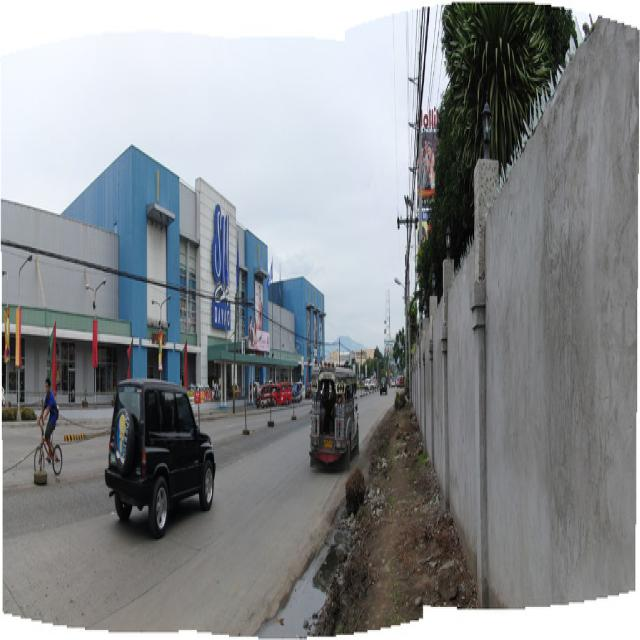car: (105, 377, 214, 526)
